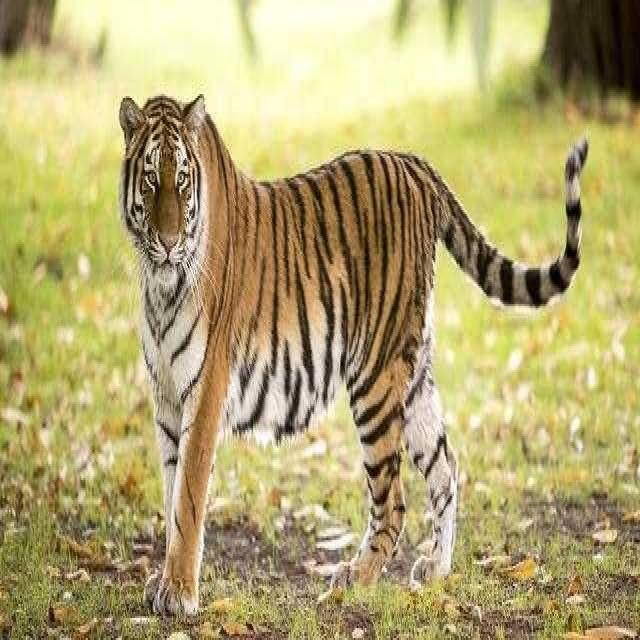TIGER: (105, 90, 585, 582)
